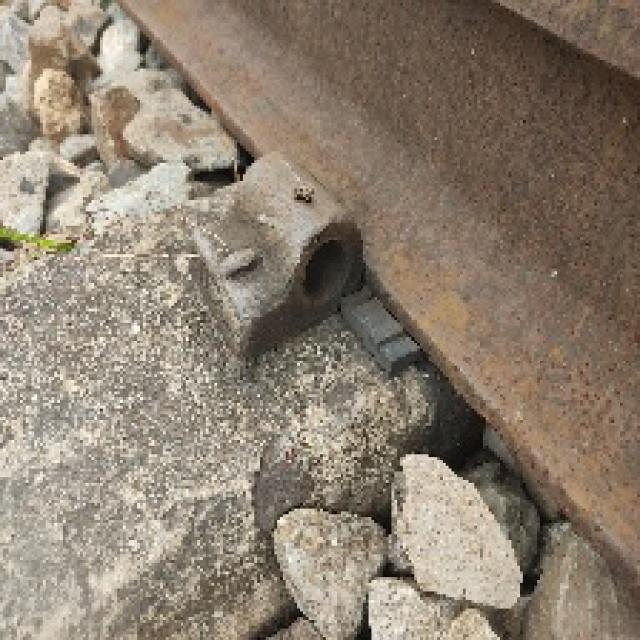Missing Fastener: (184, 142, 421, 368)
